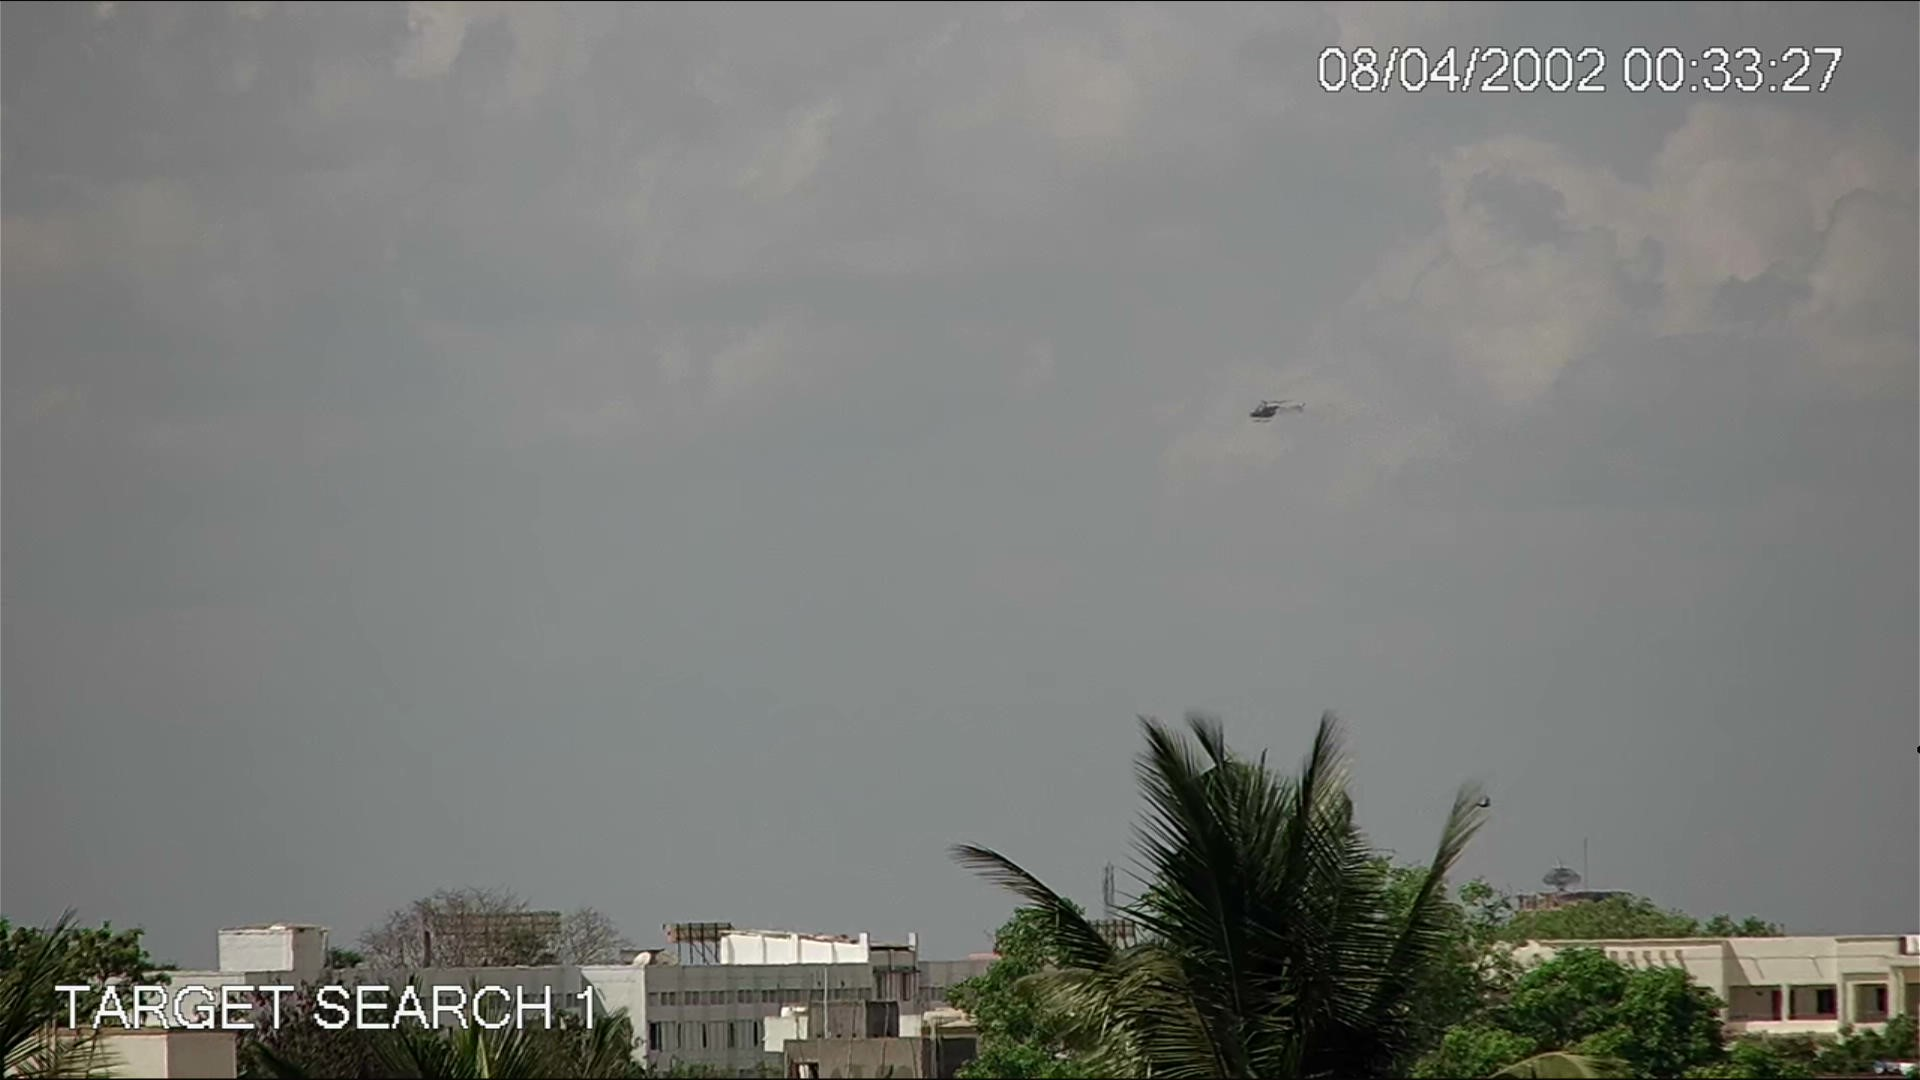SU_30: (1247, 394, 1307, 425)
